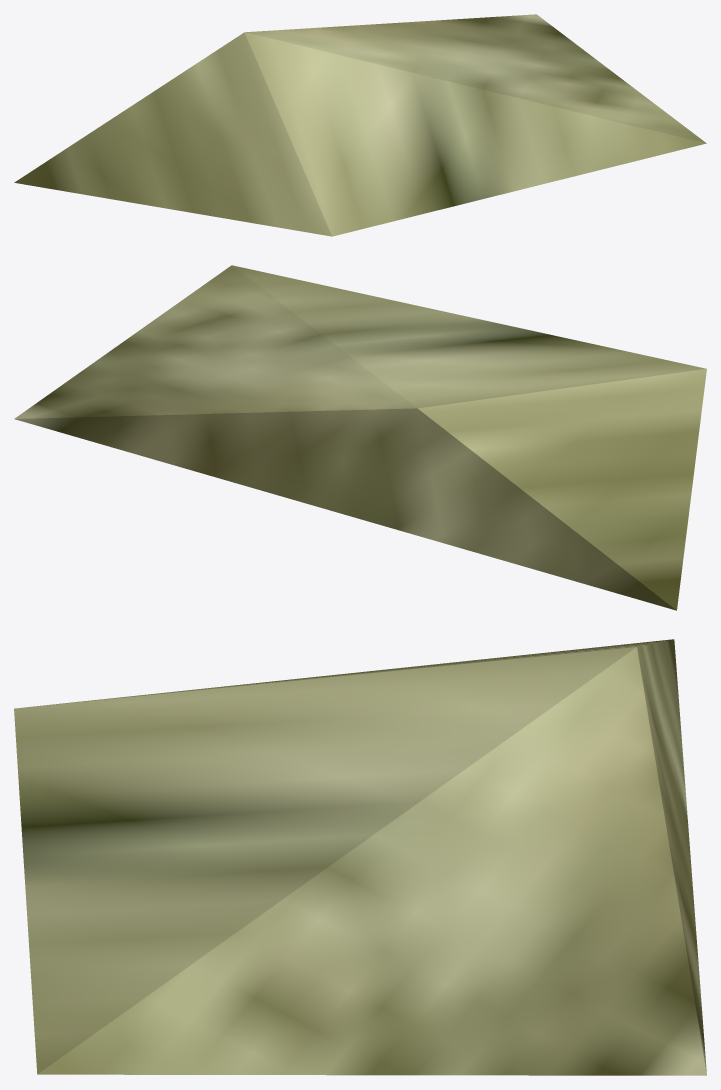
3 views of the same model, one above another, from view 1: azimuth 30°, elevation 25°; view 2: azimuth 150°, elevation 25°; view 3: azimuth 270°, elevation 25° (orthographic). The views are drawn at different scales.
Size of the model in its own units: 0.1708 by 0.0319 by 0.1001.
1 material, 1 textured.
